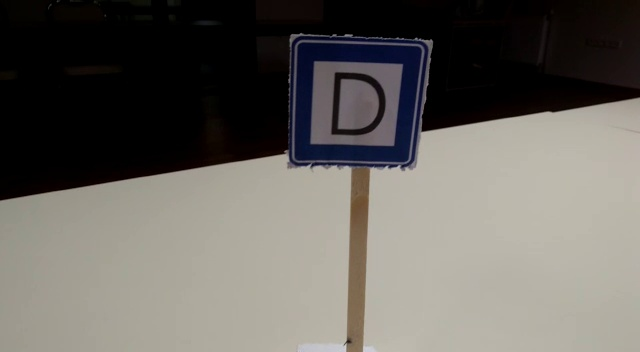durak: (289, 44, 424, 164)
